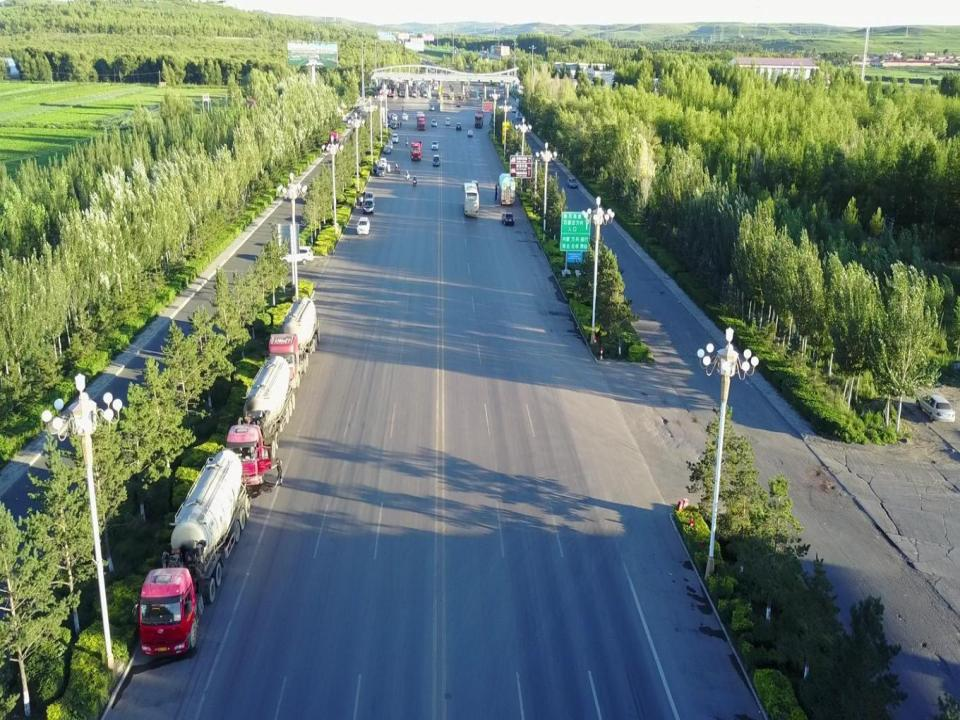bus: (462, 181, 479, 217), (498, 173, 515, 205)
car: (916, 393, 956, 422), (275, 245, 314, 265), (356, 216, 370, 236), (362, 196, 376, 214), (500, 212, 515, 227), (363, 191, 375, 206), (373, 165, 387, 177), (567, 176, 578, 189), (390, 133, 399, 143), (431, 140, 439, 151), (383, 144, 391, 154), (430, 119, 438, 128), (456, 121, 463, 131), (466, 129, 474, 136), (429, 104, 436, 111)
truck: (131, 449, 251, 657), (224, 356, 296, 486), (267, 296, 320, 388), (324, 130, 340, 152), (409, 139, 423, 162), (416, 111, 426, 132), (474, 110, 485, 129)
van: (432, 154, 440, 166), (386, 139, 393, 151), (445, 117, 450, 126)
